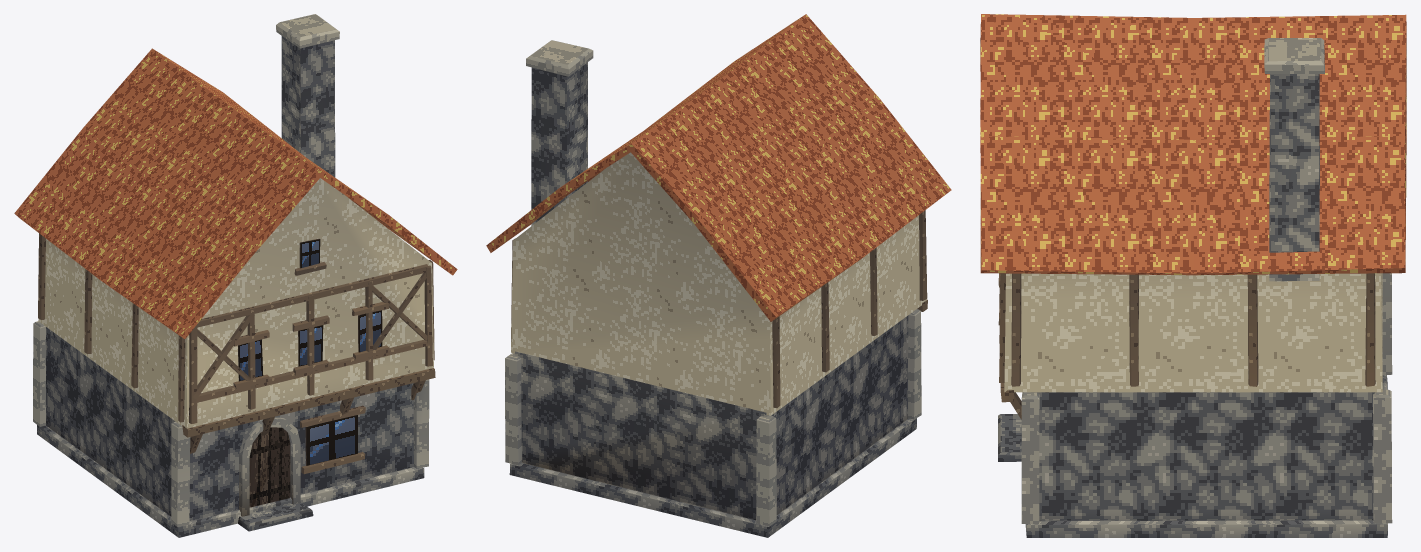
Rendered from vlg.cottage__townhouse.glb.
3 views of the same model, side by side, from view 1: azimuth 30°, elevation 25°; view 2: azimuth 150°, elevation 25°; view 3: azimuth 270°, elevation 25° (orthographic). The views are drawn at different scales.
Visible parts, largest first — view 1: kit_walls, kit_roof, kit_frame, kit_fittings, kit_stonework; view 2: kit_walls, kit_roof, kit_stonework, kit_frame; view 3: kit_roof, kit_walls, kit_stonework, kit_frame, kit_fittings.
Boxes of the visible parts, bbox=[...] form: kit_walls: bbox=[38, 178, 433, 521]; kit_roof: bbox=[14, 48, 457, 338]; kit_frame: bbox=[33, 233, 435, 526]; kit_fittings: bbox=[233, 238, 389, 531]; kit_stonework: bbox=[37, 14, 424, 537]; kit_walls: bbox=[511, 152, 926, 520]; kit_roof: bbox=[486, 14, 951, 321]; kit_stonework: bbox=[509, 40, 916, 537]; kit_frame: bbox=[505, 210, 927, 526]; kit_roof: bbox=[980, 14, 1406, 275]; kit_walls: bbox=[1004, 273, 1382, 520]; kit_stonework: bbox=[1025, 38, 1387, 537]; kit_frame: bbox=[999, 273, 1392, 524]; kit_fittings: bbox=[998, 273, 1021, 461].
Bounding box in the file's own units: 6.97 × 9.07 × 7.28.
8 materials, 8 textured.
